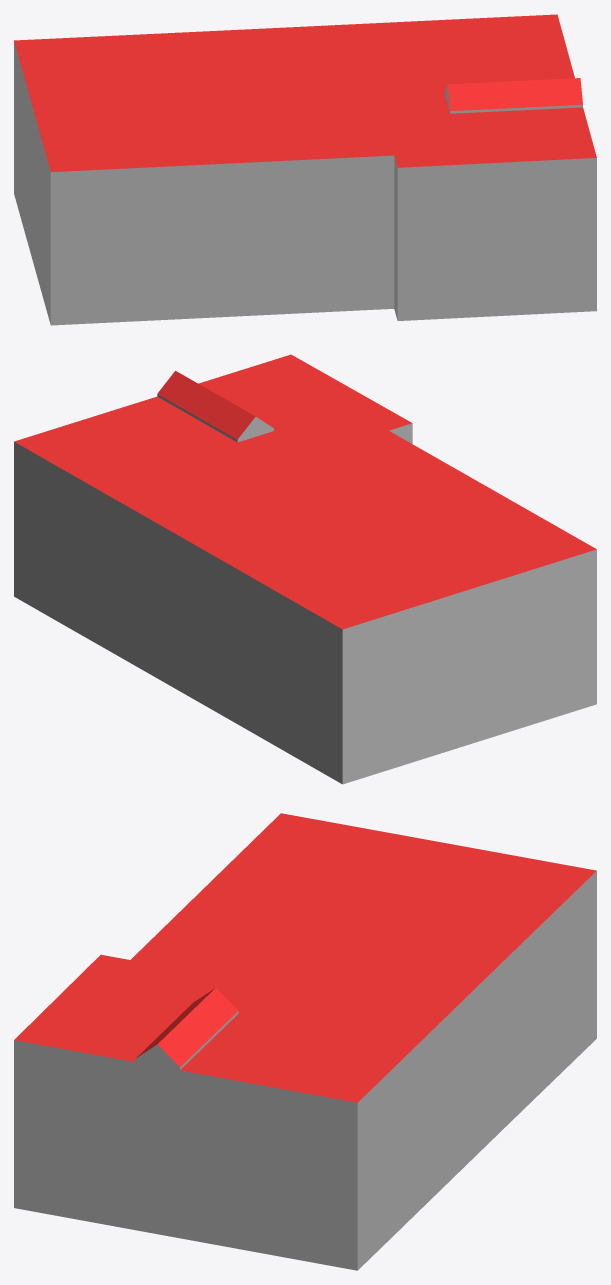
Rendered from DEBY_LOD2_4959312.dae.
3 views of the same model, one above another, from view 1: azimuth 30°, elevation 25°; view 2: azimuth 150°, elevation 25°; view 3: azimuth 270°, elevation 25° (orthographic). The views are drawn at different scales.
Bounding box in the file's own units: 46.35 × 39.43 × 14.17.
